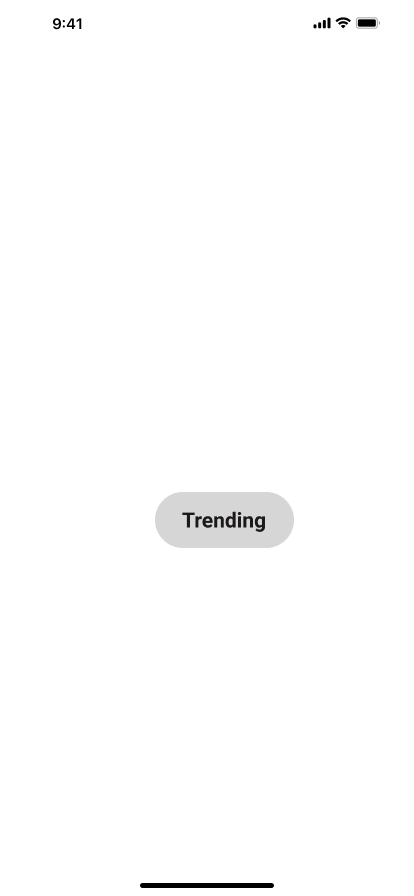Buttons: (155, 492, 302, 548)
Home Indicator: (0, 862, 414, 896)
Status Bar: (0, 0, 414, 44)
